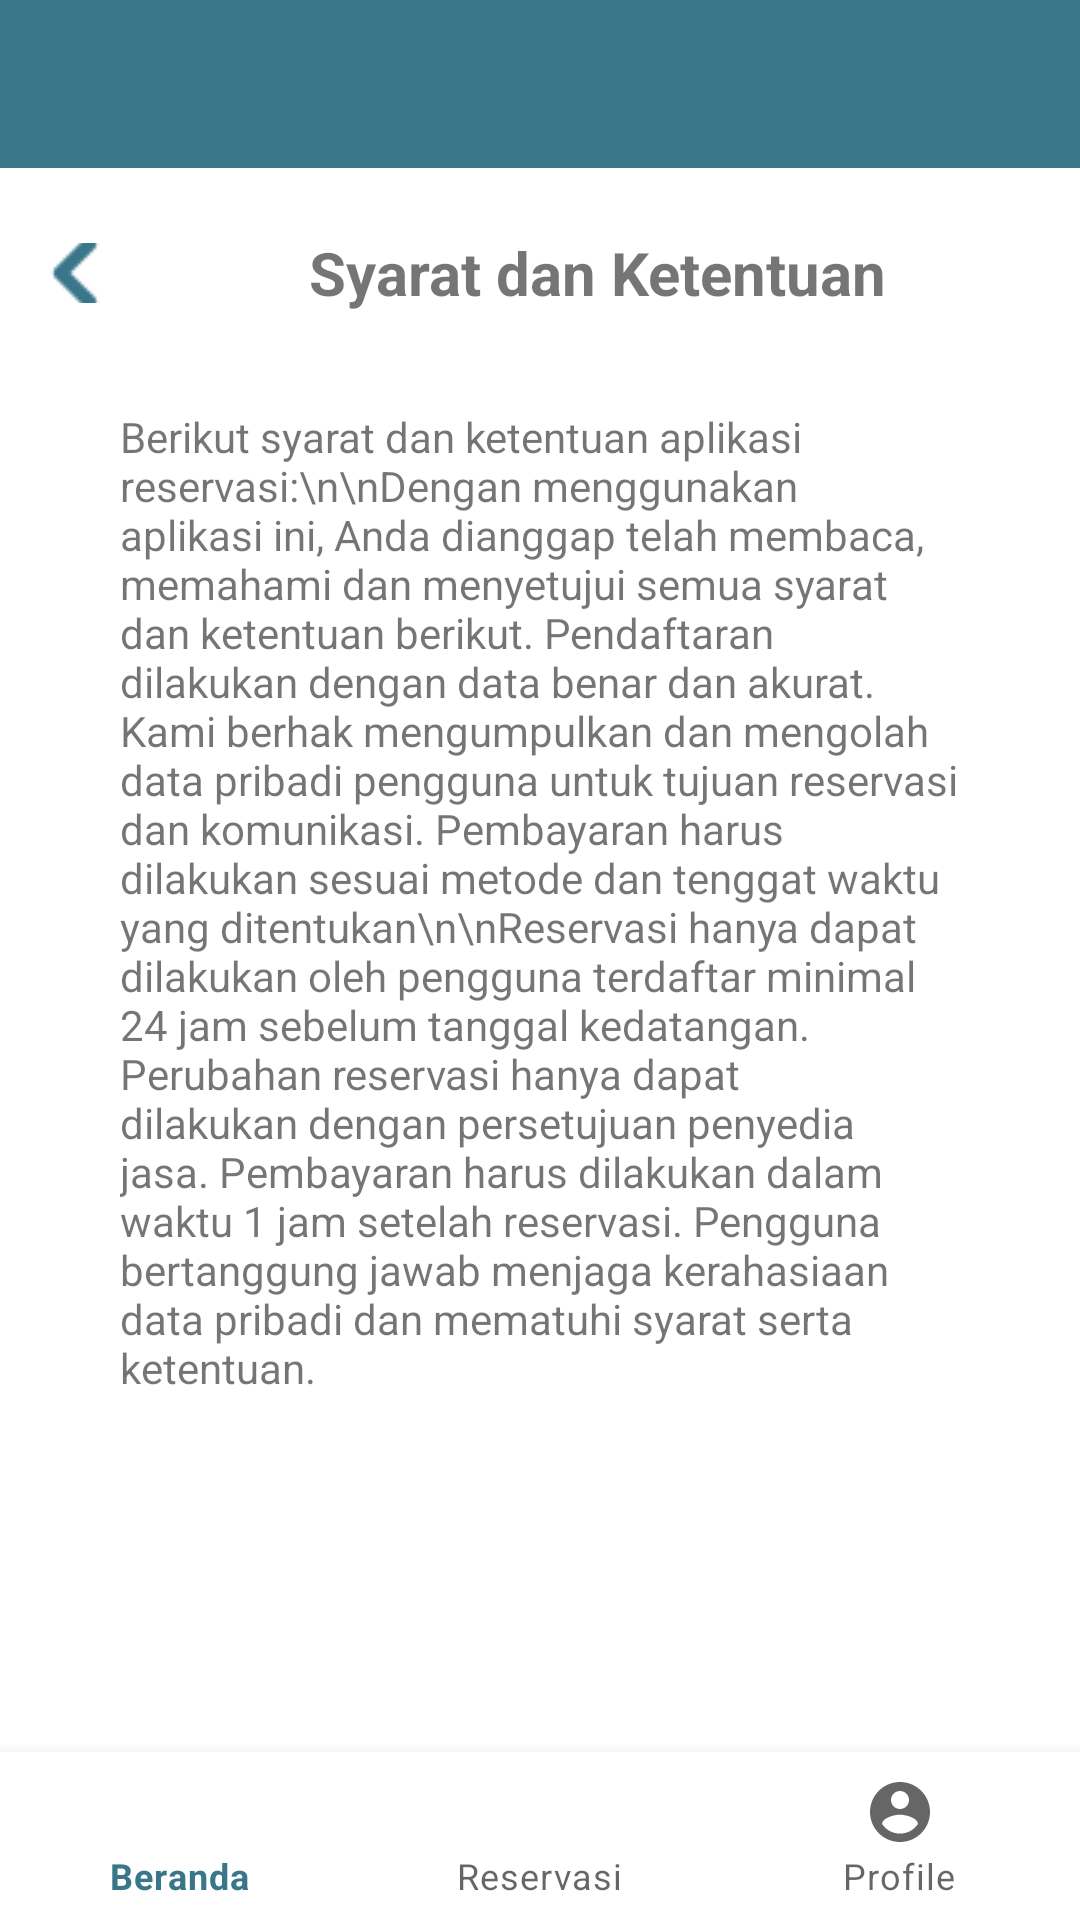

Where to tap for icons on this 1080*1920 app screen, as (x=x, y=y):
backback: (x=75, y=273)
